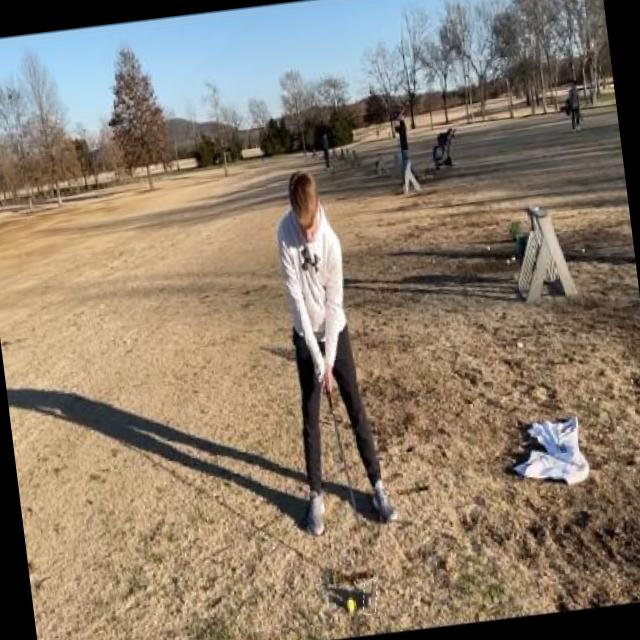club head: (361, 579, 379, 615)
